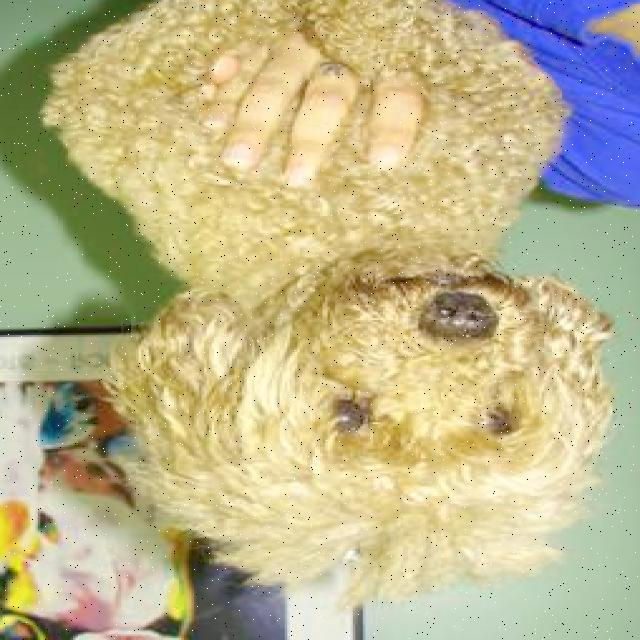Dog: (110, 268, 608, 615)
